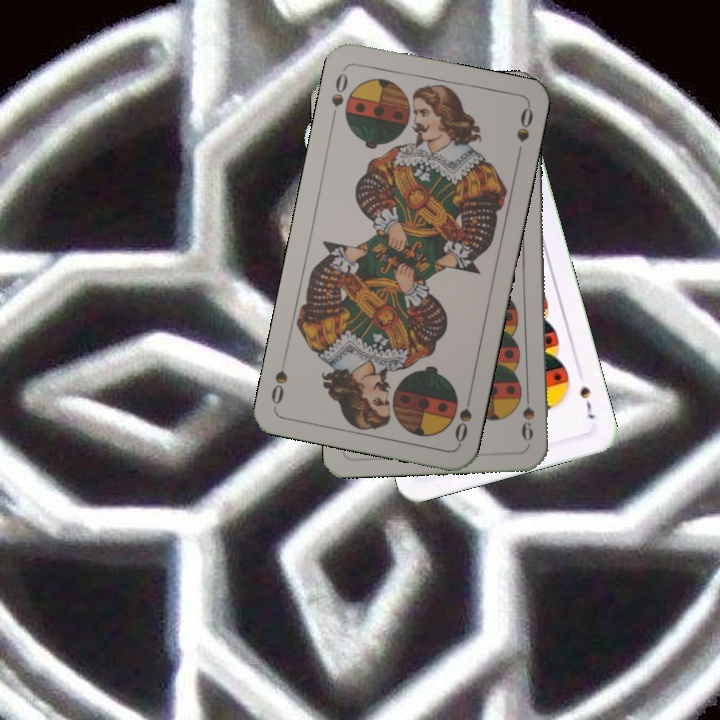S7: (576, 382, 598, 422)
S9: (517, 386, 538, 443)
SO: (451, 387, 475, 446), (327, 66, 351, 124)
